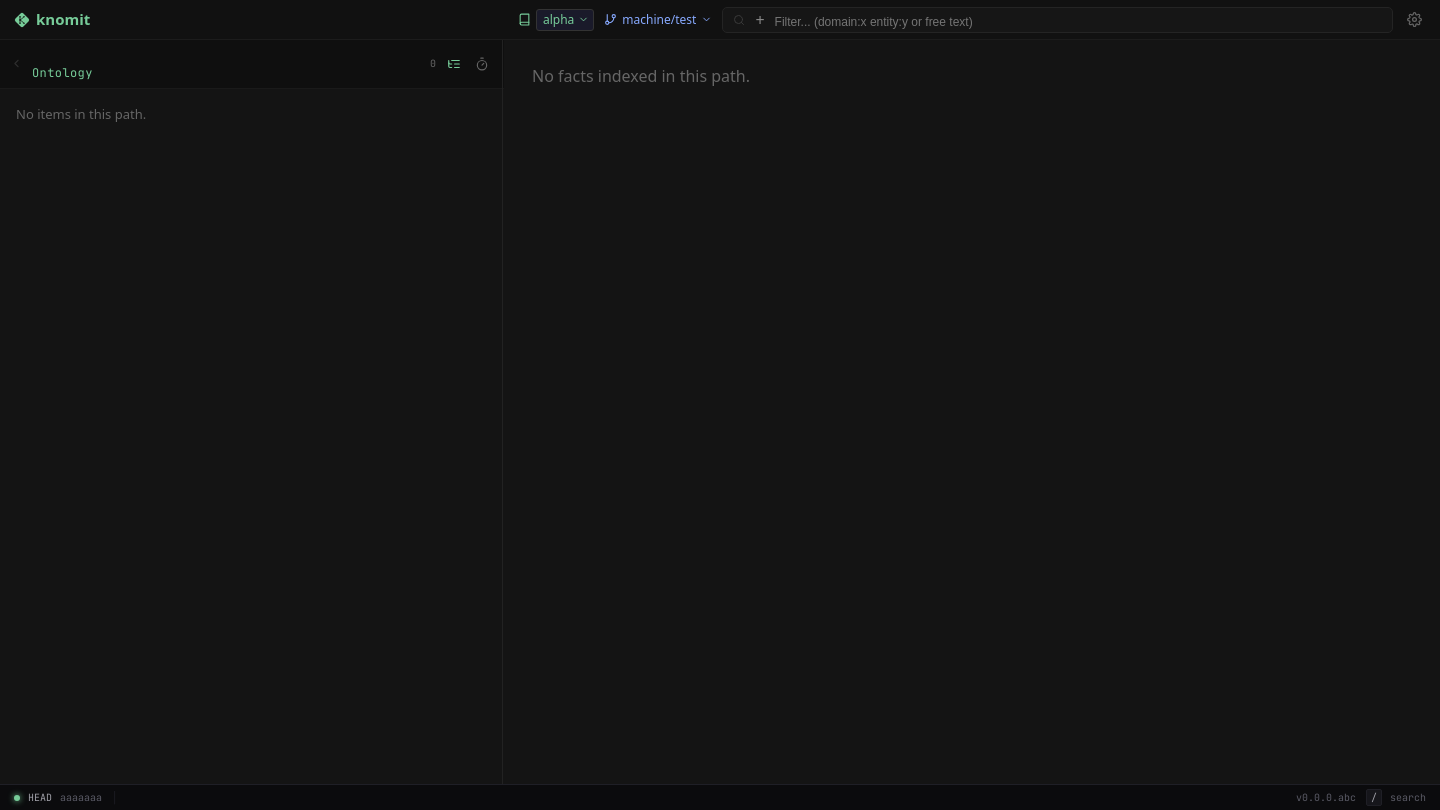
it: Manage as a mode › replaces the browse panes instead of floating over them
Expected: the element with test id "status-footer" is shown, [0,784,1439,809]
Expected: the element with test id "library-header" is shown, [0,40,504,89]
Click the button with test id "toknomitr-manage-btn" at (1414, 20), box [1403,8,1426,31]
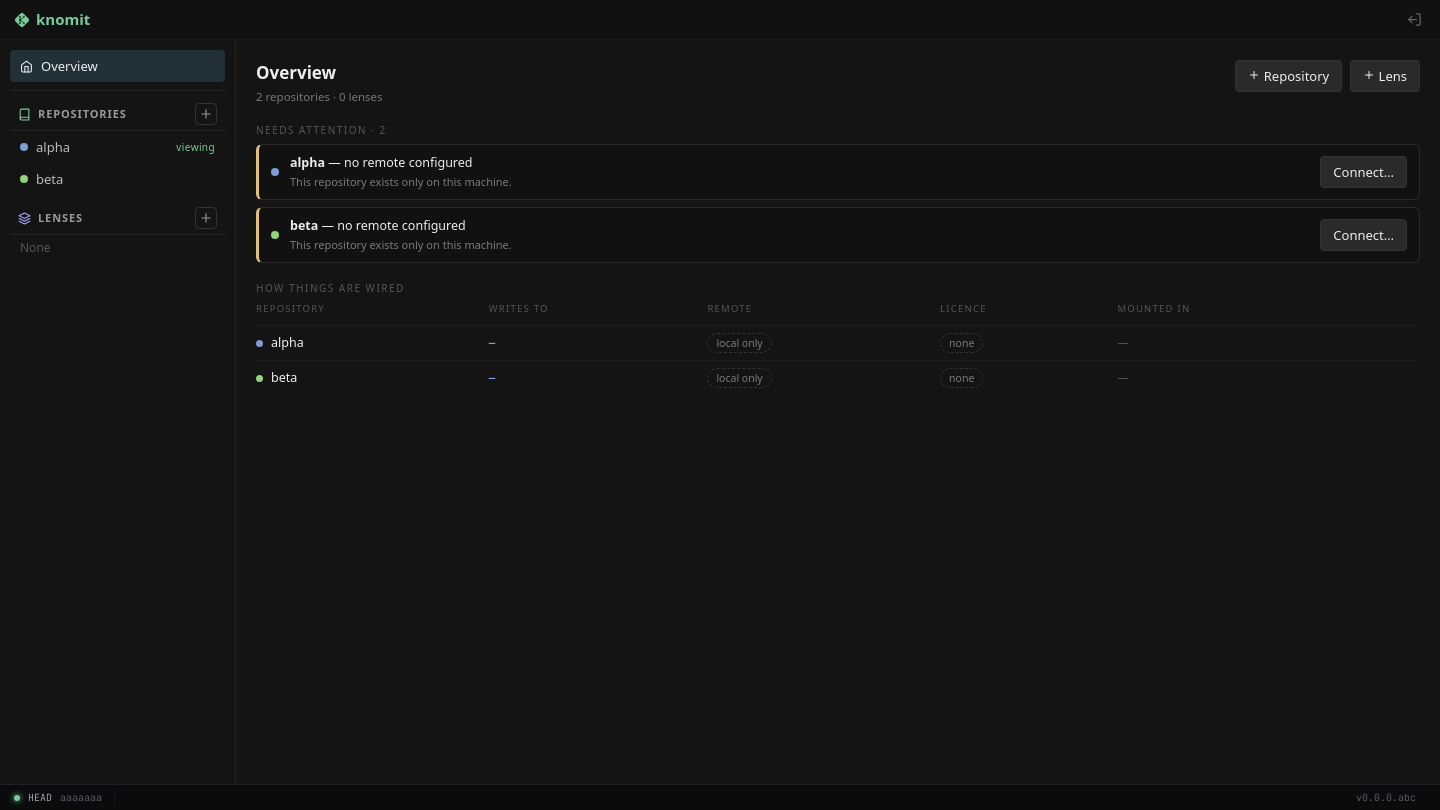
Expected: the element with test id "manage-surface" is shown
Expected: the element with test id "library-header" is gone
